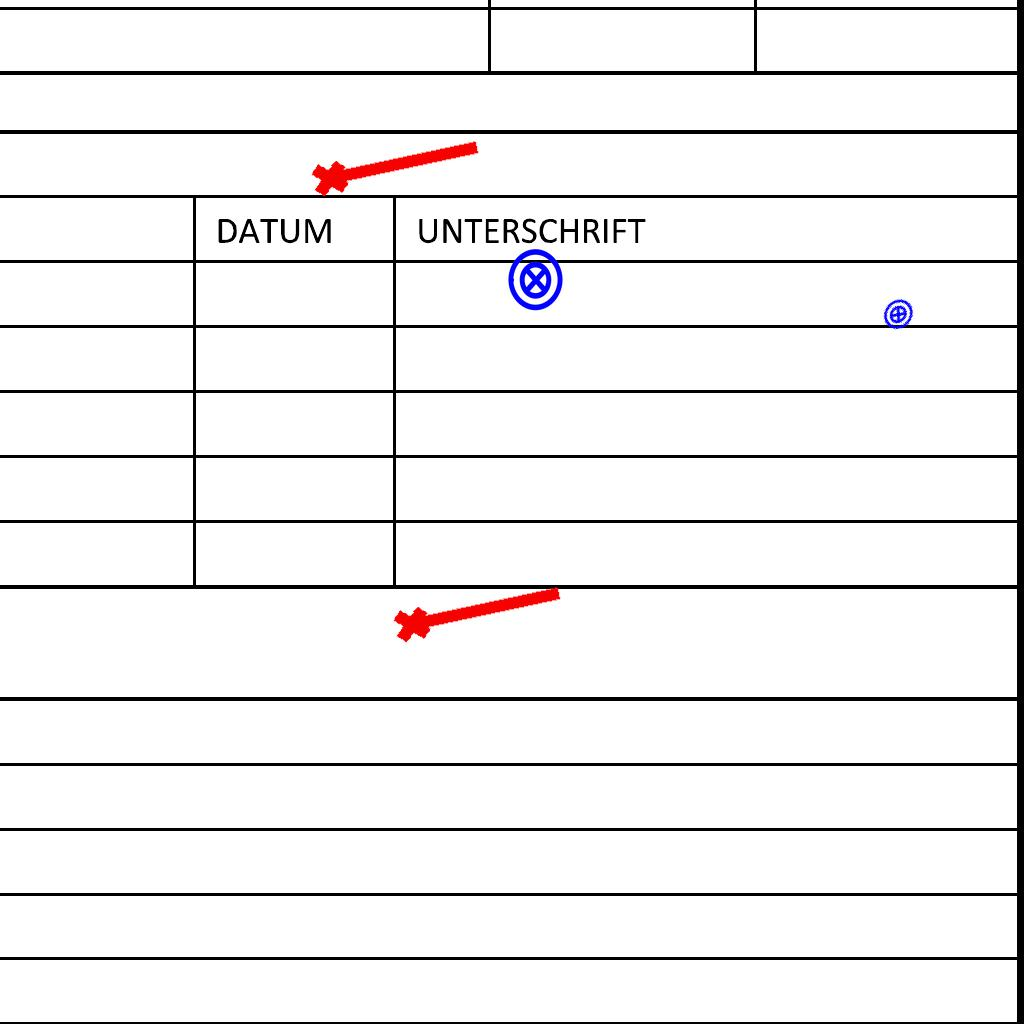ASR_Ansaugoeffnung: (305, 121, 487, 203), (387, 567, 569, 649)
Taster_beleuchtet: (503, 247, 569, 313), (875, 291, 922, 338)
